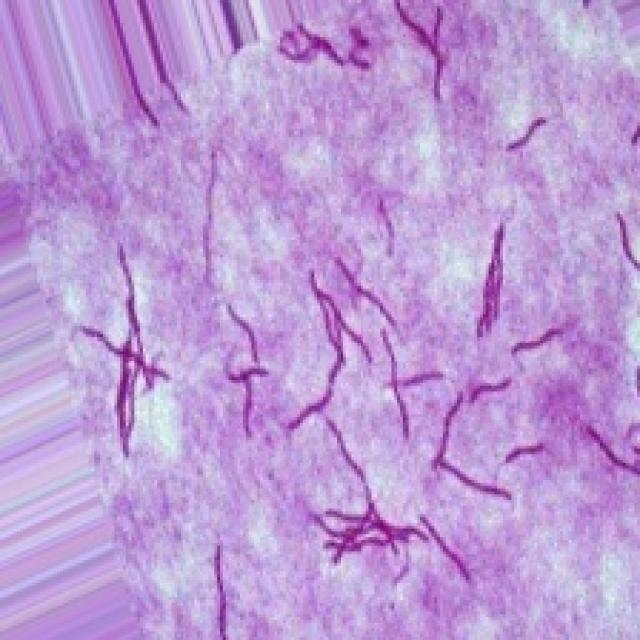Spiral_bacteria: (6, 0, 637, 637)
